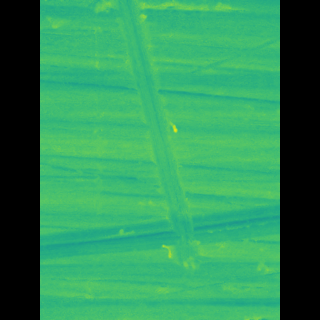Loch: (116, 0, 193, 273), (68, 198, 250, 264), (92, 0, 232, 21)
